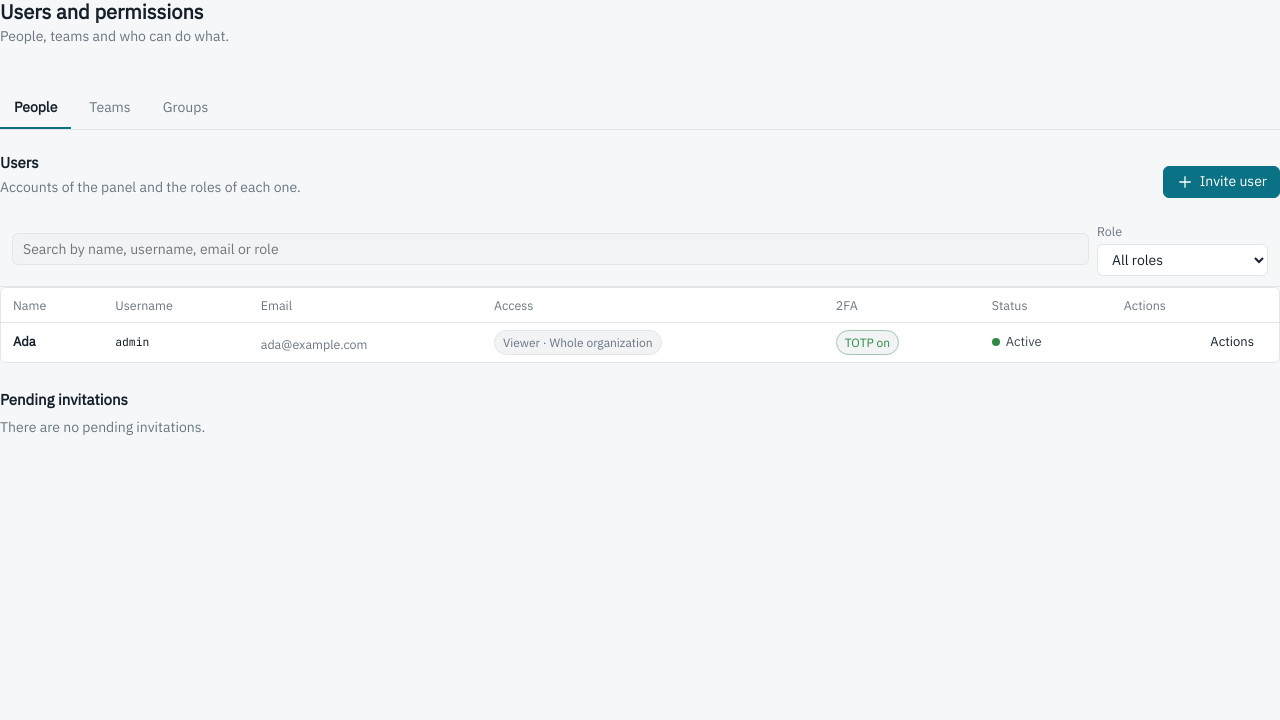
Users screen › shows a specific server validation message for an invite error
The width and height of the screenshot is (1280, 720).
Click the button "Invite user" at [1221, 182], box [1163, 166, 1279, 198]
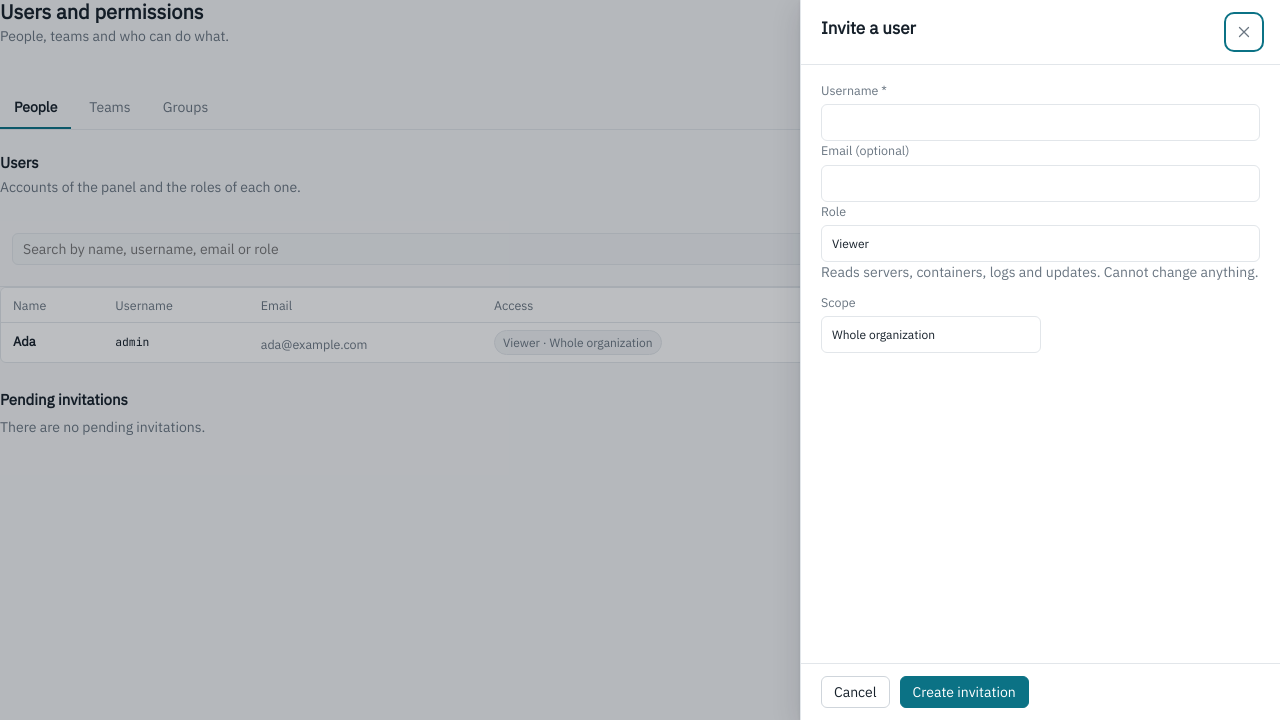
Type "new-user" into the field labelled "Username *" at [1040, 123], box [821, 104, 1260, 142]
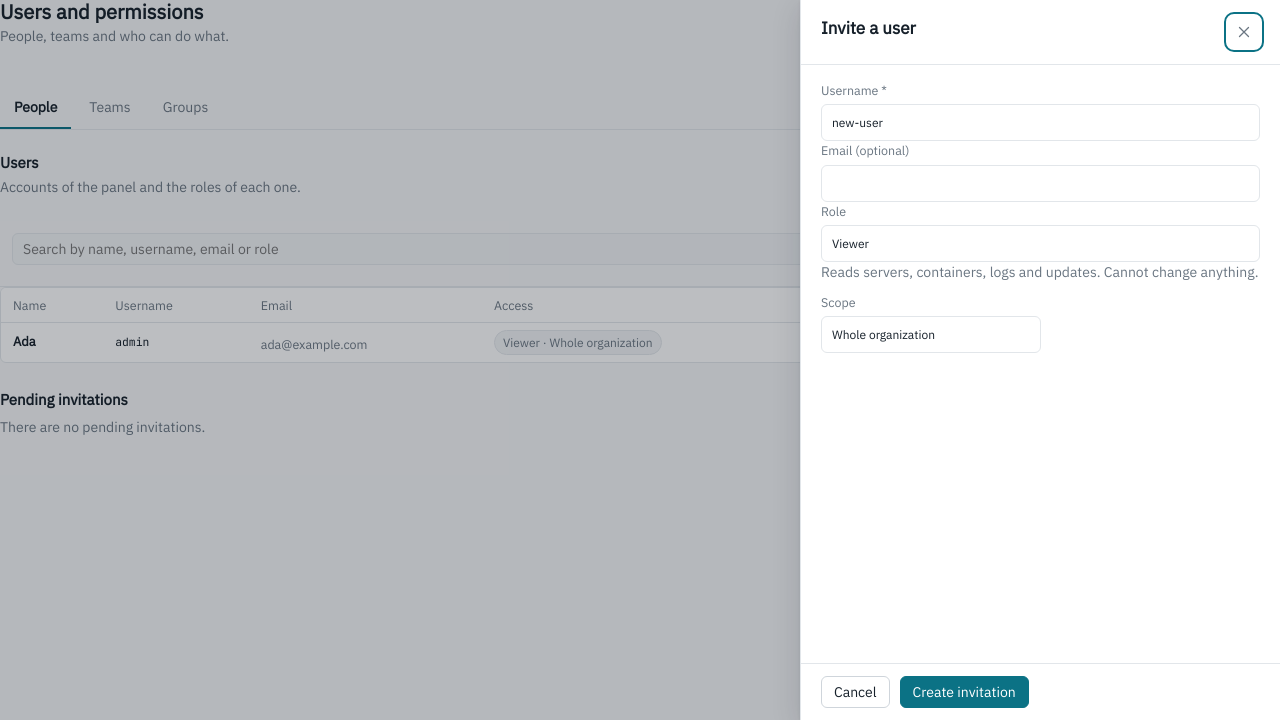
Type "new@example.com" into the field labelled "Email (optional)" at [1040, 183], box [821, 165, 1260, 202]
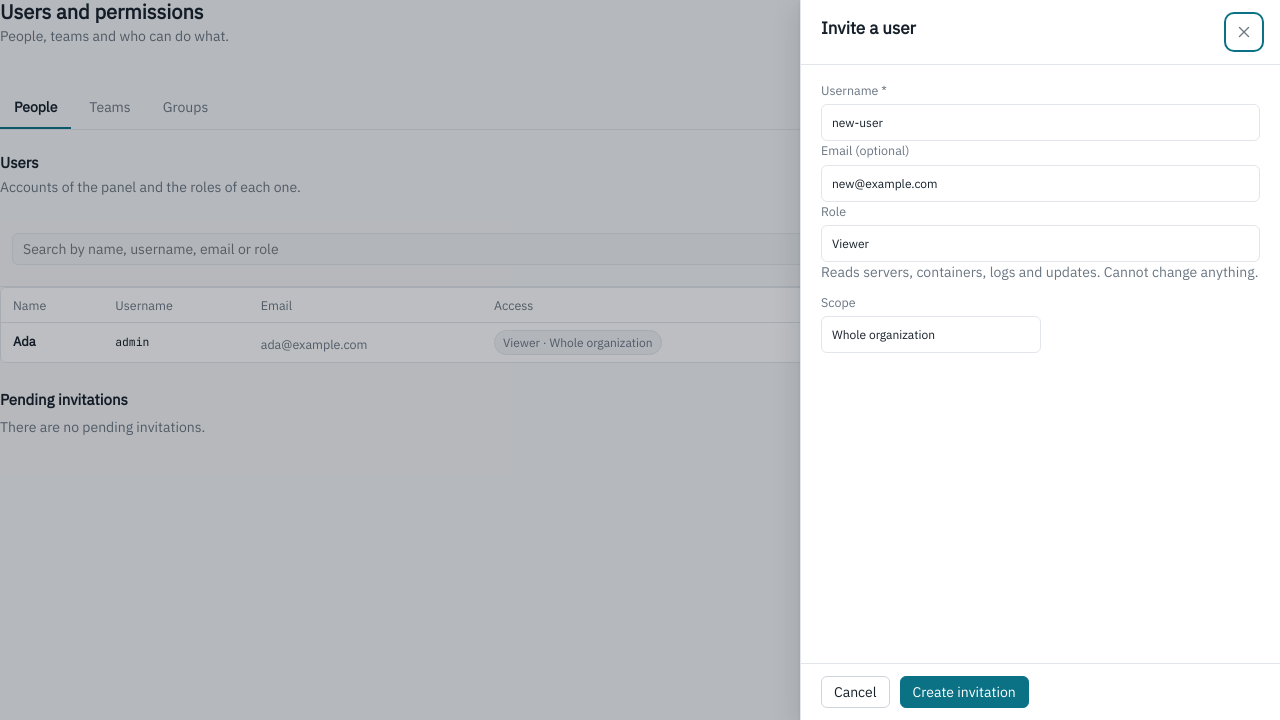
Click the button "Create invitation" at [964, 692], box [900, 676, 1029, 708]
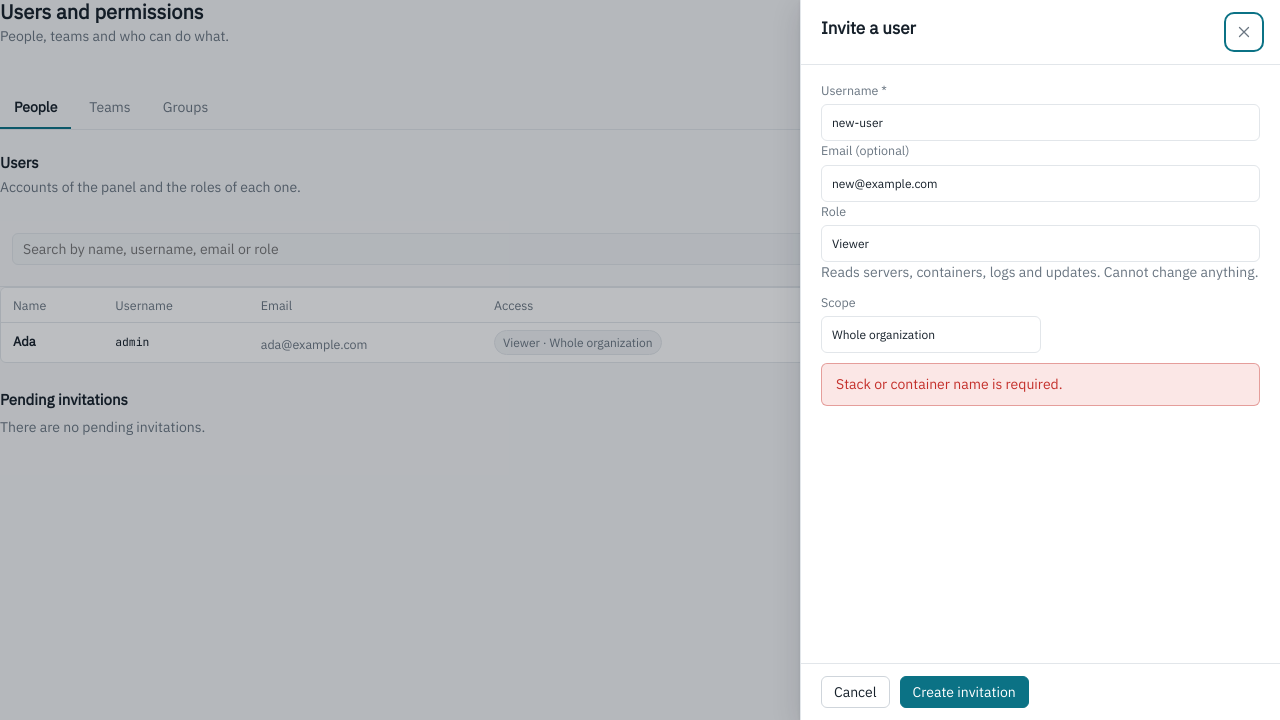
Check: the message reads "Stack or container name is required.", box [836, 375, 1062, 393]
